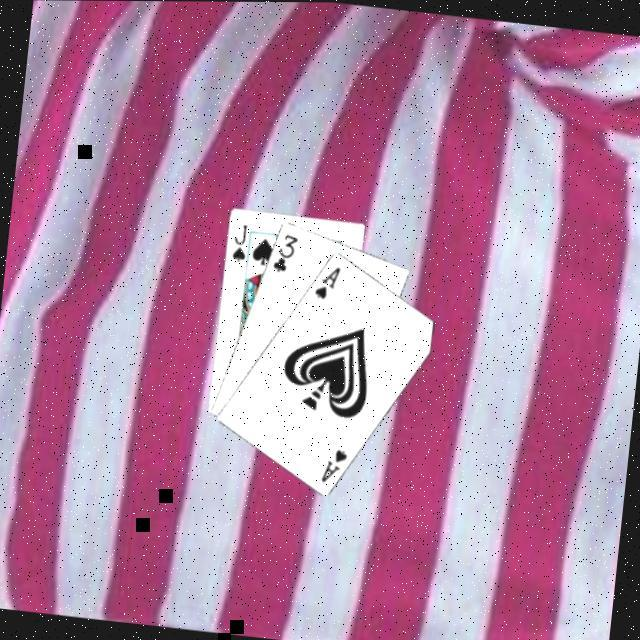3C: (269, 227, 302, 275)
AS: (310, 258, 344, 302), (318, 442, 352, 486)
JS: (228, 218, 252, 263)
